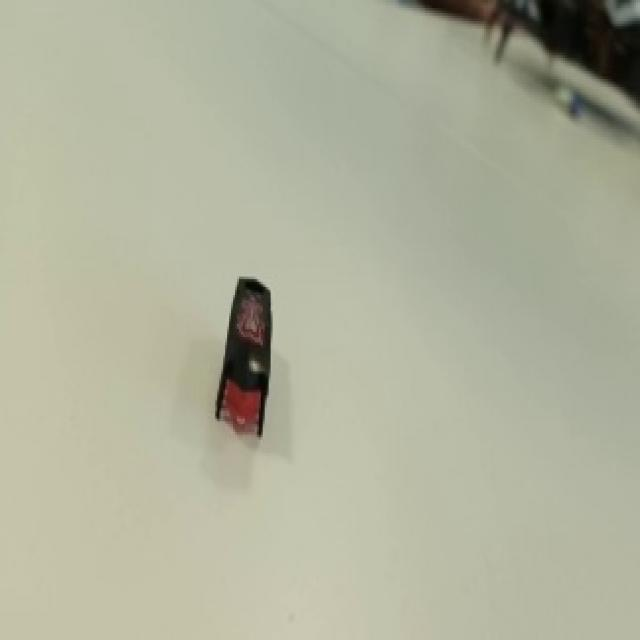2_NanoBug_Negro: (195, 255, 309, 450)
